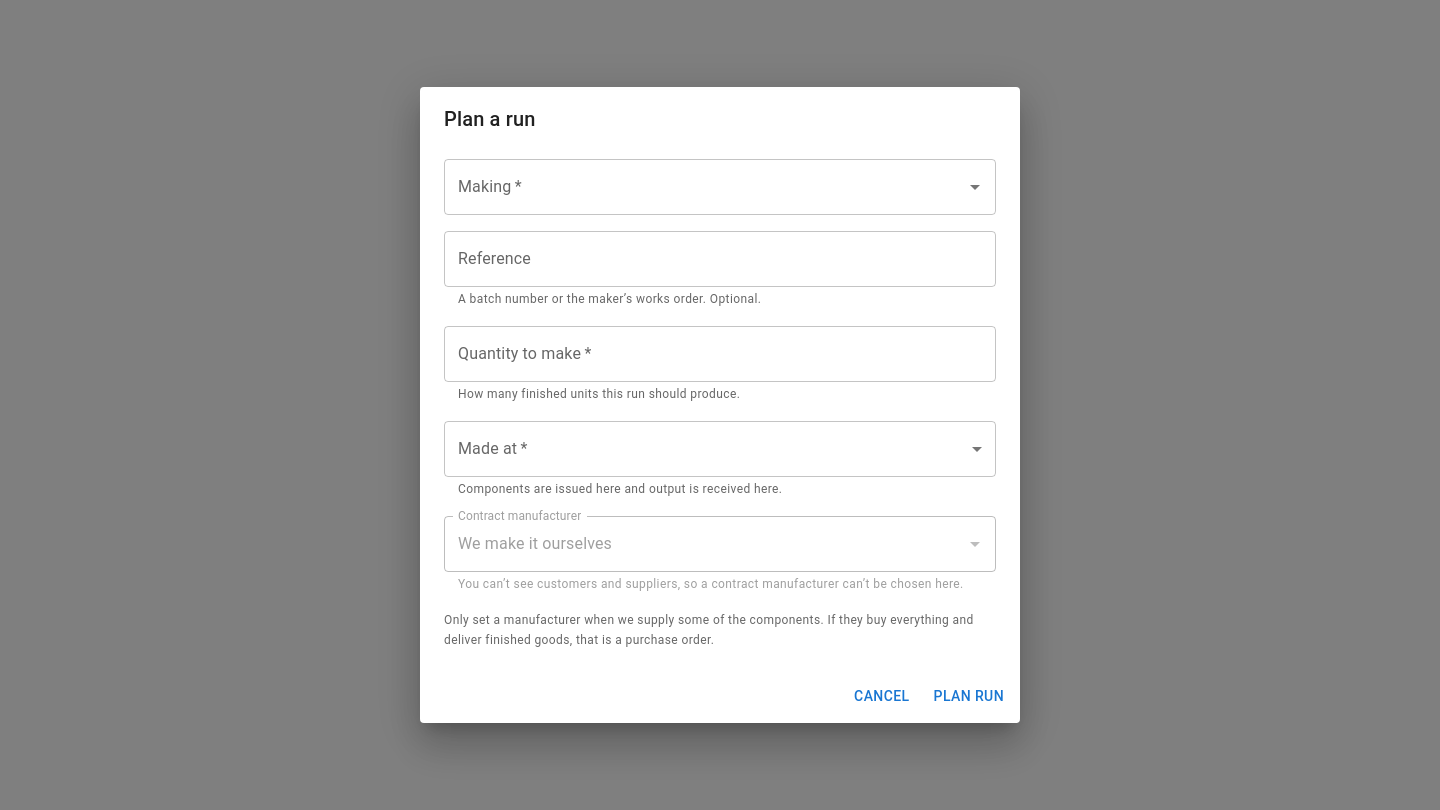
Test: CreateRunDialog › plans without asking for partners the reader may not see
Expected: the text "You can’t see customers and suppliers, so a contract manufacturer can’t be chosen here." is shown, [458,577,964,591]
Expected: the dropdown labelled "Contract manufacturer" holds "We make it ourselves", [453,525,957,563]
Click the dropdown named "Made at". click: (720, 449)
box: [444,421,996,477]
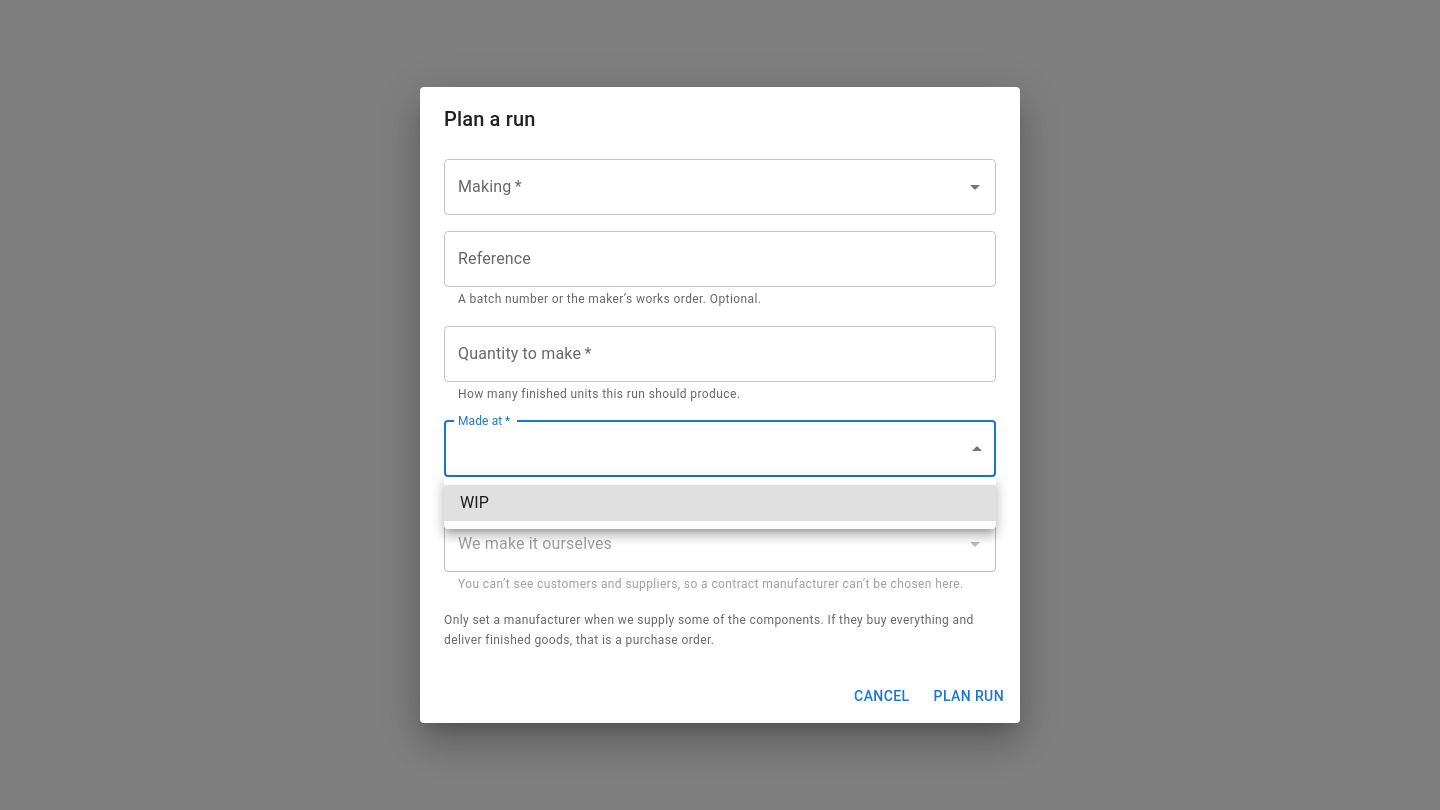
Result: the option "WIP" is shown at [444,485,996,521]
